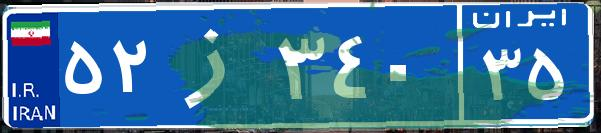0: (385, 28, 445, 110)
2: (110, 28, 158, 105)
3: (273, 28, 330, 110), (475, 38, 525, 113)
4: (330, 28, 385, 110)
5: (57, 26, 110, 107), (525, 38, 570, 115)
ز: (158, 15, 273, 115)
